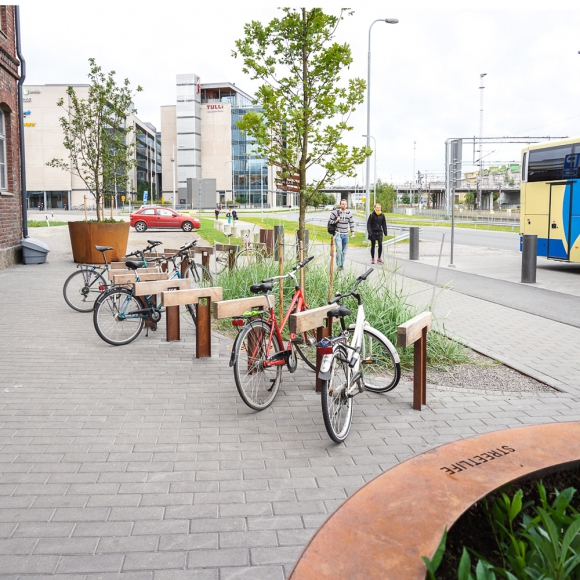bike: (314, 272, 413, 449), (228, 256, 321, 422)
